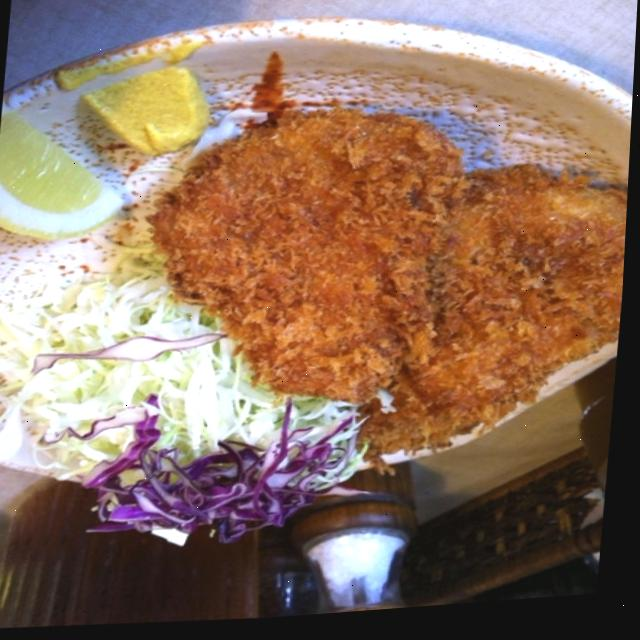牛肉菜式: (0, 11, 630, 603)
